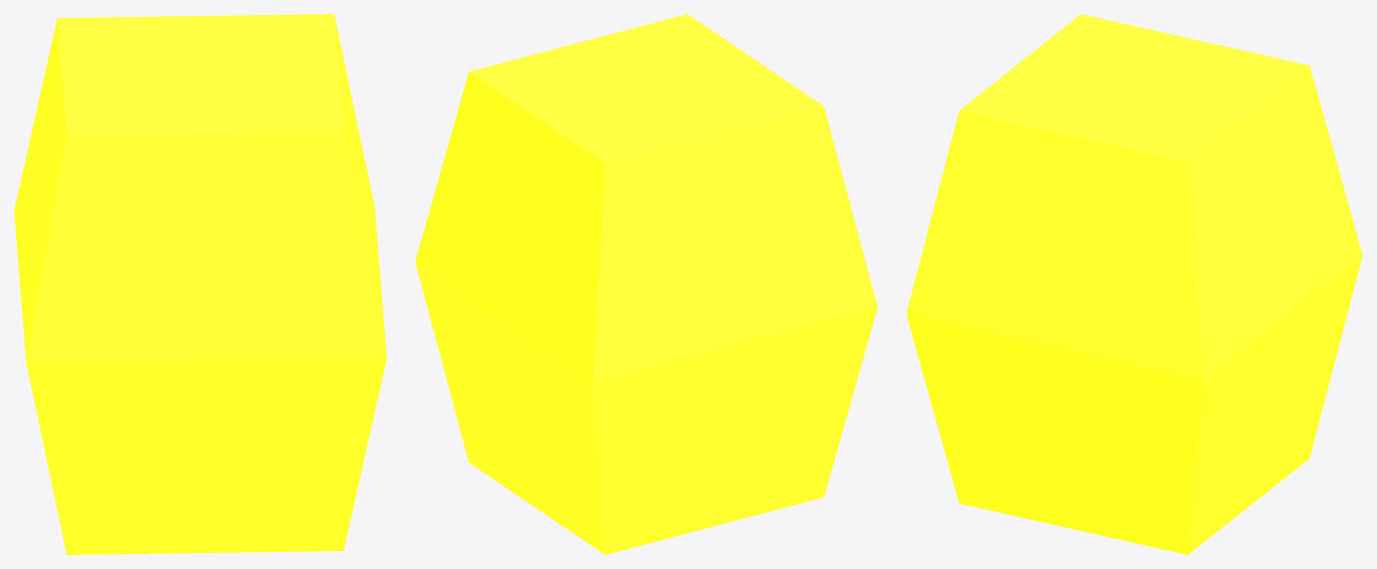
File: hideshow.gltf
3 views of the same model, side by side, from view 1: azimuth 30°, elevation 25°; view 2: azimuth 150°, elevation 25°; view 3: azimuth 270°, elevation 25° (orthographic). The views are drawn at different scales.
Visible parts, largest first — view 1: hideshow; view 2: hideshow; view 3: hideshow.
Boxes of the visible parts, x1,y1,x2,y2 form: hideshow: (14, 14, 386, 554); hideshow: (415, 14, 877, 554); hideshow: (906, 14, 1362, 554).
Bounding box in the file's own units: 0.1532 × 0.1455 × 0.1532.
